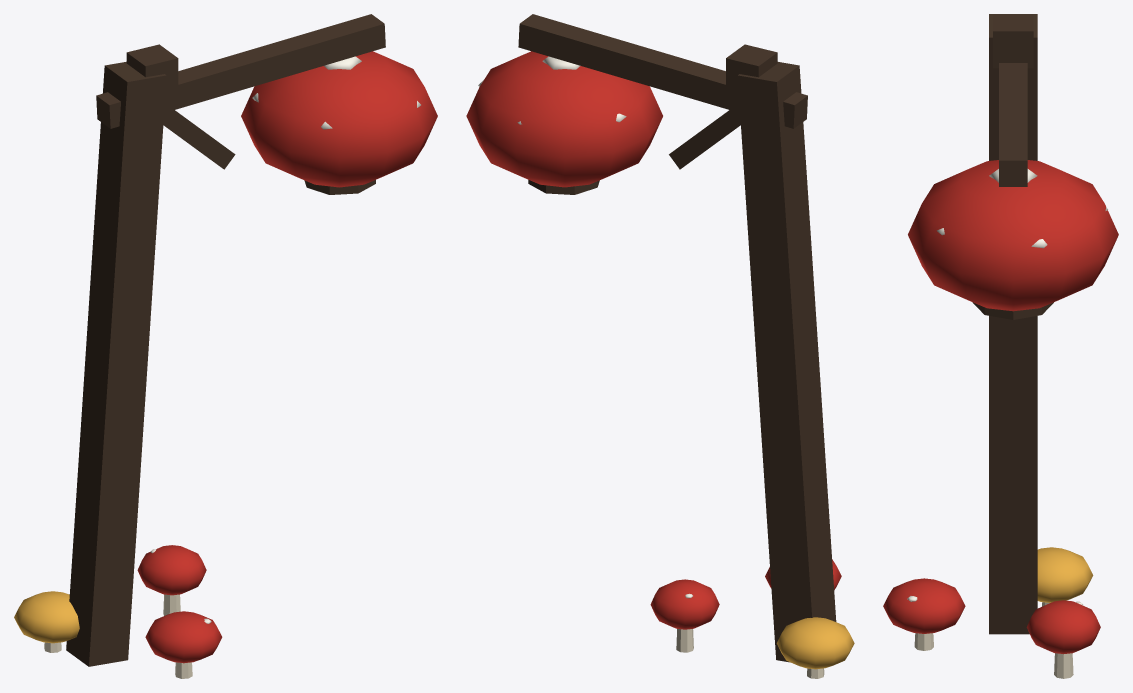
Rendered from Build_Lobby_SporeLantern.glb.
The picture shows the model from 3 angles, left to right: view 1: azimuth 30°, elevation 25°; view 2: azimuth 150°, elevation 25°; view 3: azimuth 270°, elevation 25°; orthographic projection. The views are drawn at different scales.
Visible parts, largest first — view 1: Build_Lobby_SporeLantern; view 2: Build_Lobby_SporeLantern; view 3: Build_Lobby_SporeLantern.
Boxes of the visible parts, box(x1,y1,x2,y2) form: Build_Lobby_SporeLantern: box(14, 14, 437, 678); Build_Lobby_SporeLantern: box(466, 14, 854, 678); Build_Lobby_SporeLantern: box(883, 14, 1118, 678).
Bounding box in the file's own units: 5.91 × 8.56 × 2.9.
